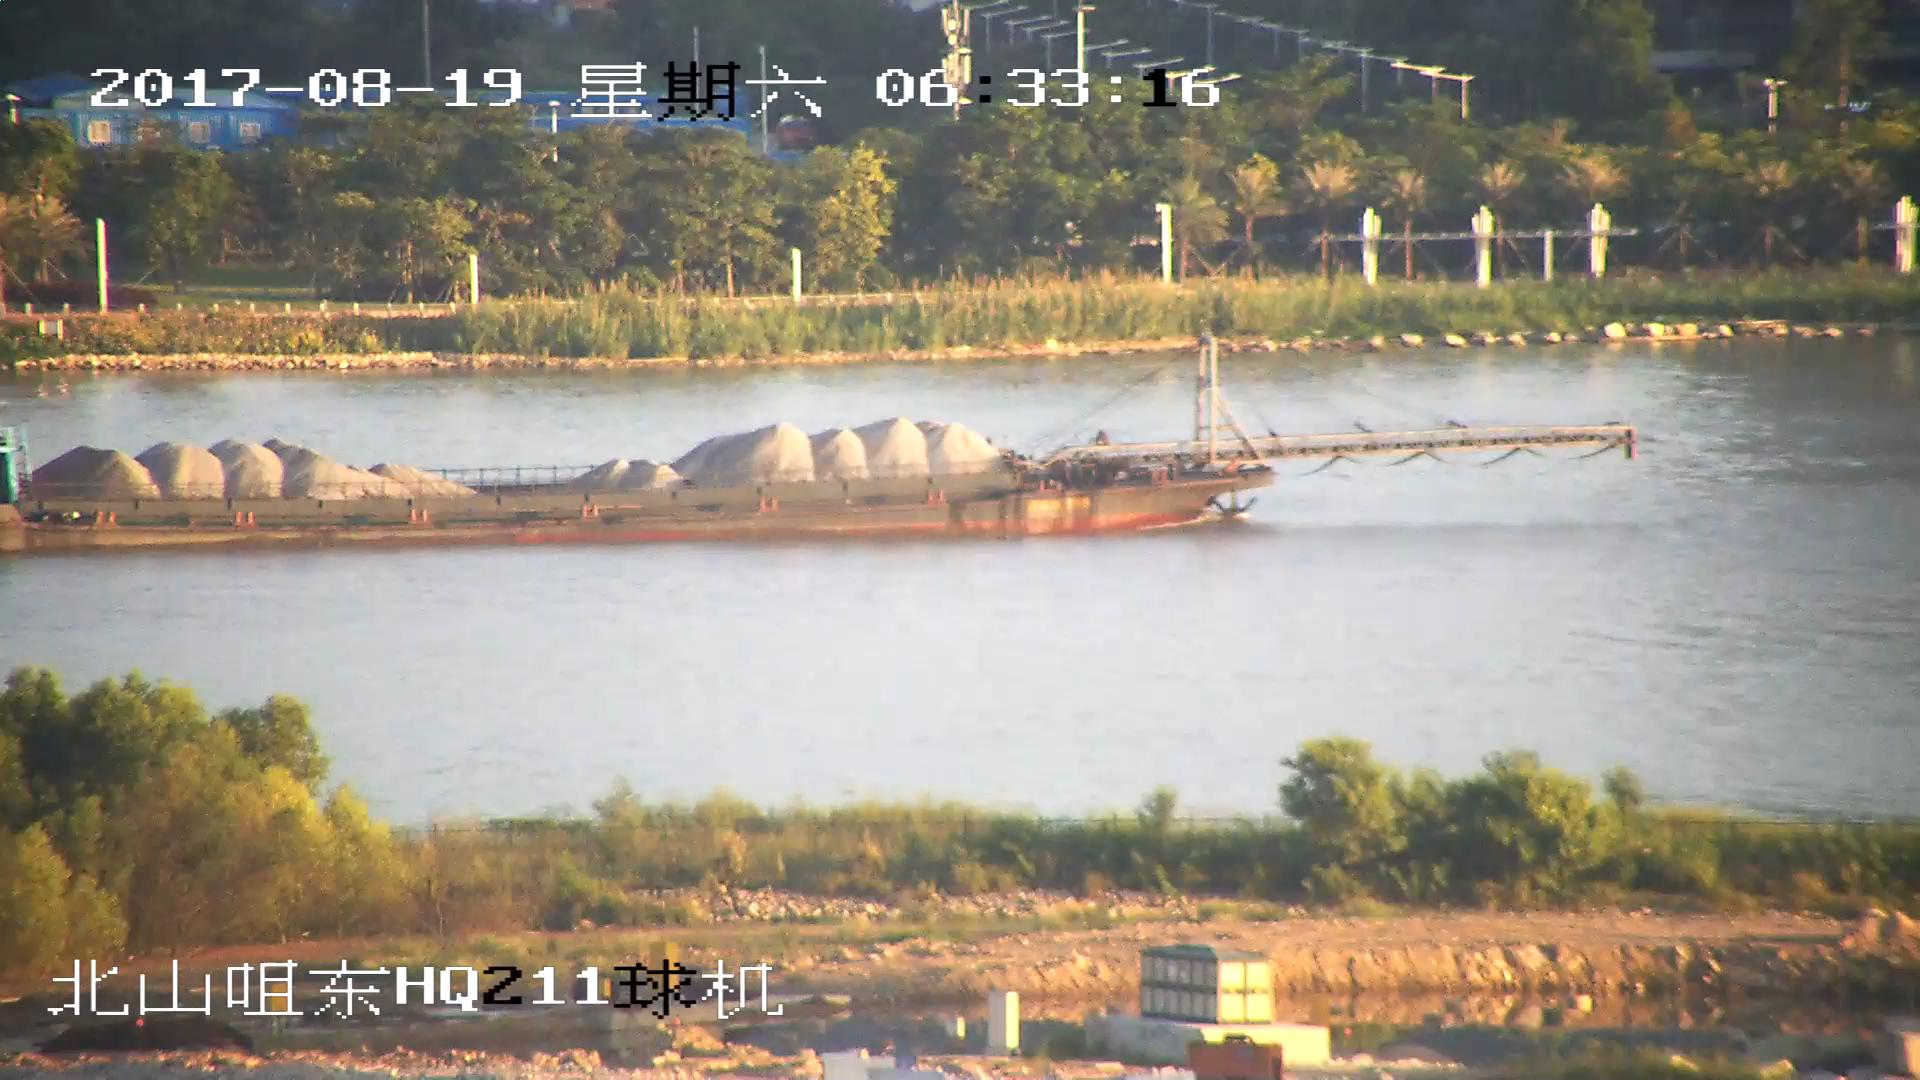ore carrier: (1, 332, 1639, 554)
